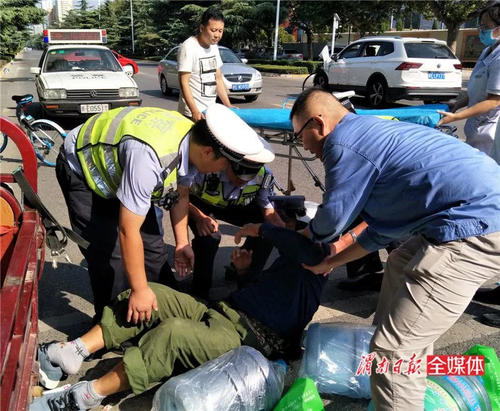fall: (18, 209, 332, 411)
